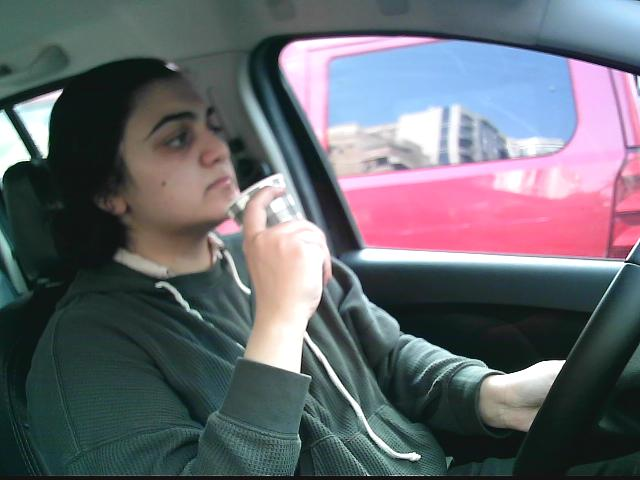Drinking: (222, 169, 328, 273)
